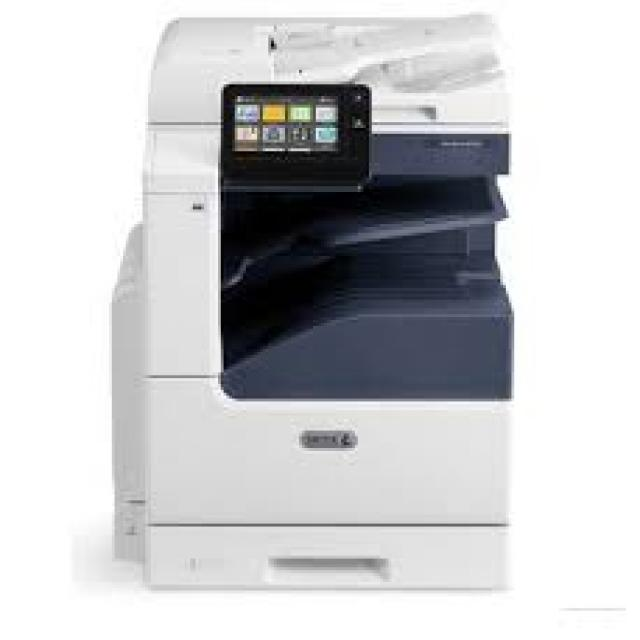printer: (84, 0, 562, 628)
